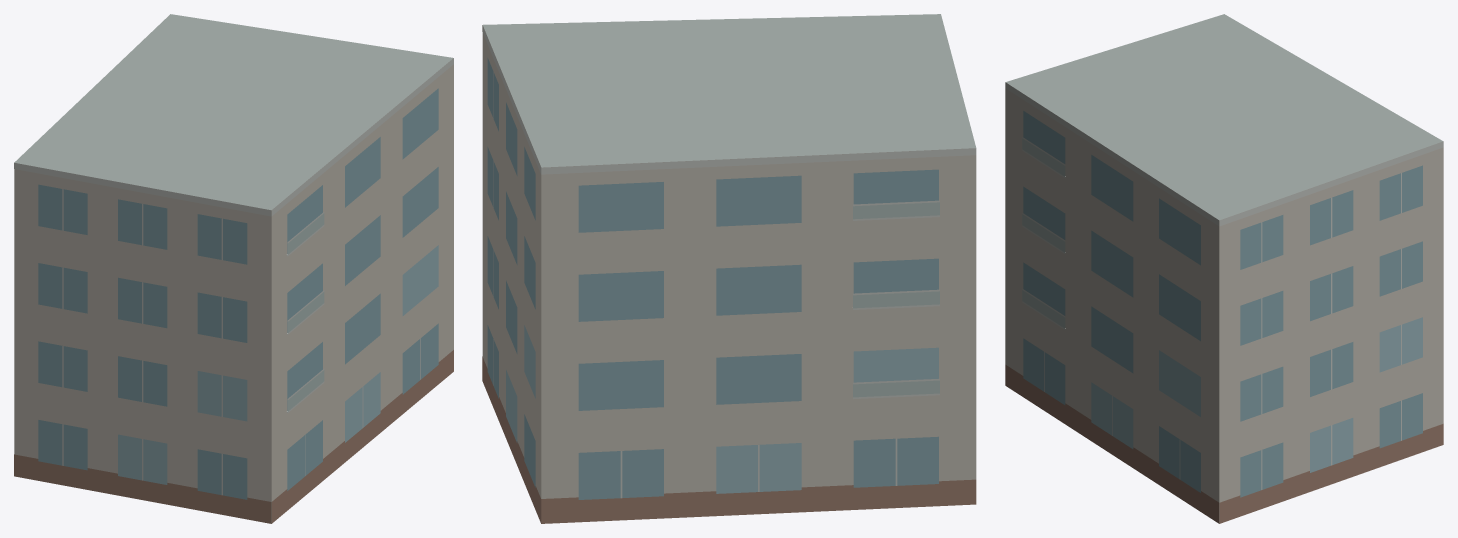
Rendered from survey-upis-32674416.glb.
The picture shows the model from 3 angles, left to right: view 1: azimuth 30°, elevation 25°; view 2: azimuth 150°, elevation 25°; view 3: azimuth 270°, elevation 25°; orthographic projection. The views are drawn at different scales.
Visible parts, largest first — view 1: survey-upis-32674416.tmp; view 2: survey-upis-32674416.tmp; view 3: survey-upis-32674416.tmp.
Boxes of the visible parts, x1,y1,x2,y2 form: survey-upis-32674416.tmp: (14,14,453,523); survey-upis-32674416.tmp: (482,14,976,523); survey-upis-32674416.tmp: (1005,14,1443,523).
Bounding box in the file's own units: 17.81 × 12.2 × 15.97.
